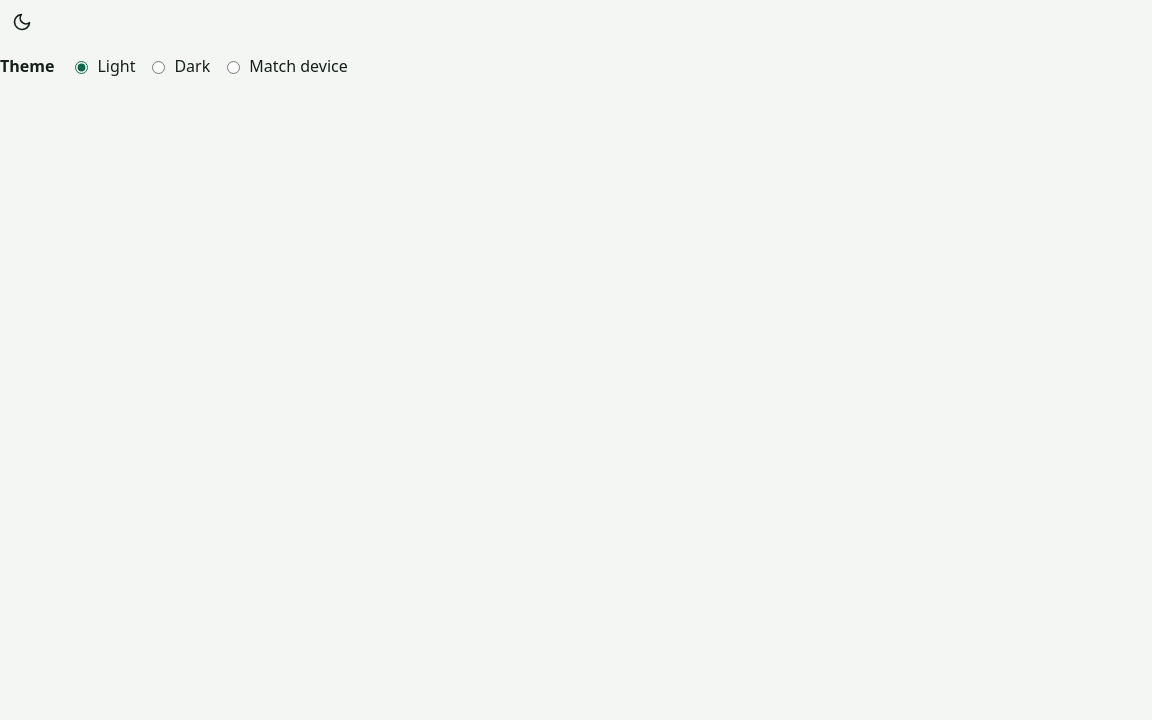
Test: theme controls › the setting offers Light, Dark and Match device, and stays in step with the toggle
Later steps or results of the test are not shown.
Expected: the radio button labelled "Light" is checked, 75,61 -> 88,74
Click the button named "Switch to dark mode": (22, 22) 0,0 -> 44,44
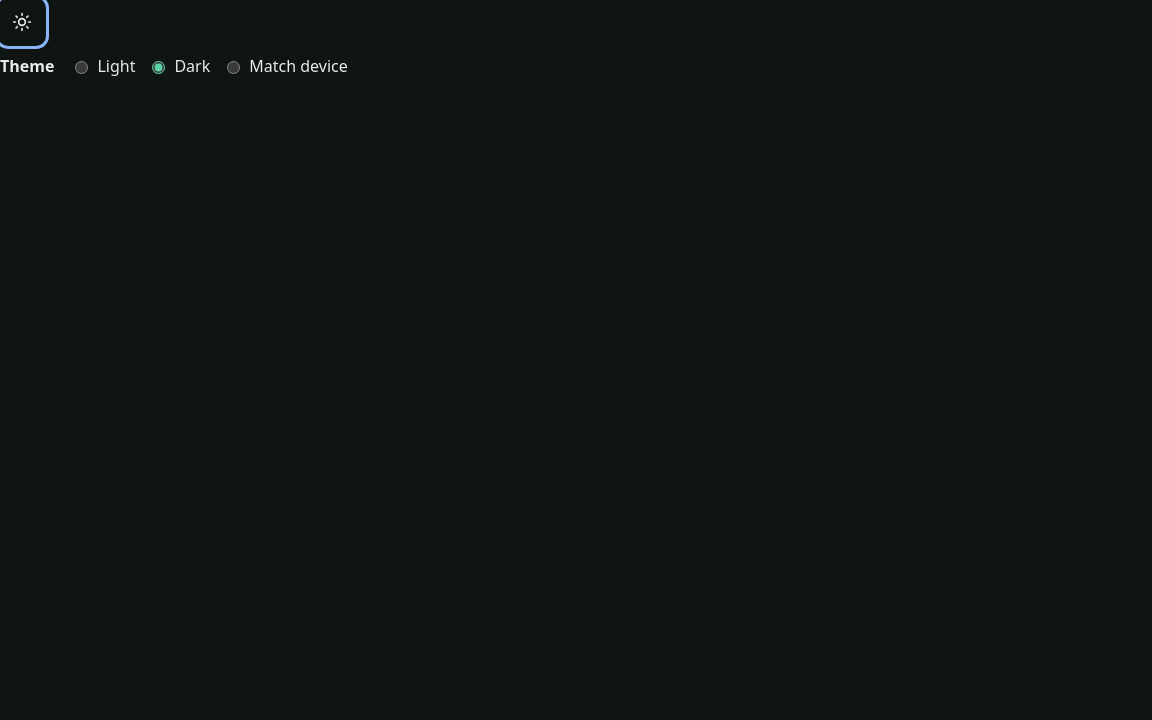
Now the radio button labelled "Dark" is checked, box 152,61 -> 165,74
